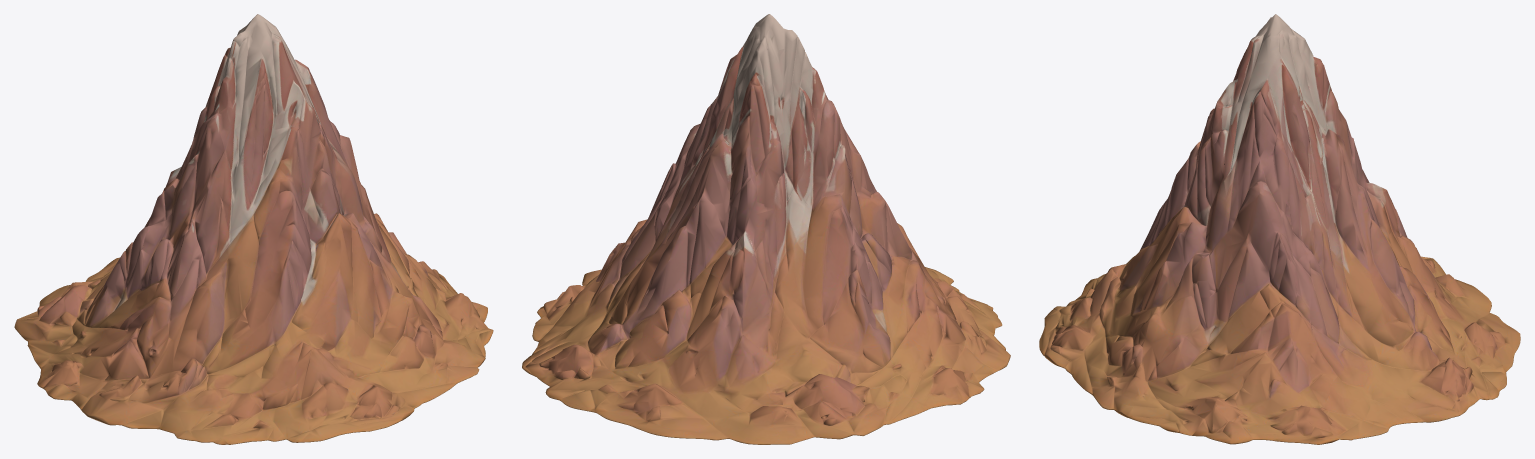
File: montana_de_baja_poligonalidad.glb
3 views of the same model, side by side, from view 1: azimuth 30°, elevation 25°; view 2: azimuth 150°, elevation 25°; view 3: azimuth 270°, elevation 25° (orthographic).
Parts seen in each view (by area): view 1: montana_de_baja_poligonalidad; view 2: montana_de_baja_poligonalidad; view 3: montana_de_baja_poligonalidad.
Part boxes in pixels (x1,y1,x2,y2): montana_de_baja_poligonalidad: (14, 14, 493, 444); montana_de_baja_poligonalidad: (522, 14, 1010, 444); montana_de_baja_poligonalidad: (1039, 14, 1520, 444).
Size of what is drawn, in the model's own units: 106 by 79.99 by 105.
1 material, 1 textured.
